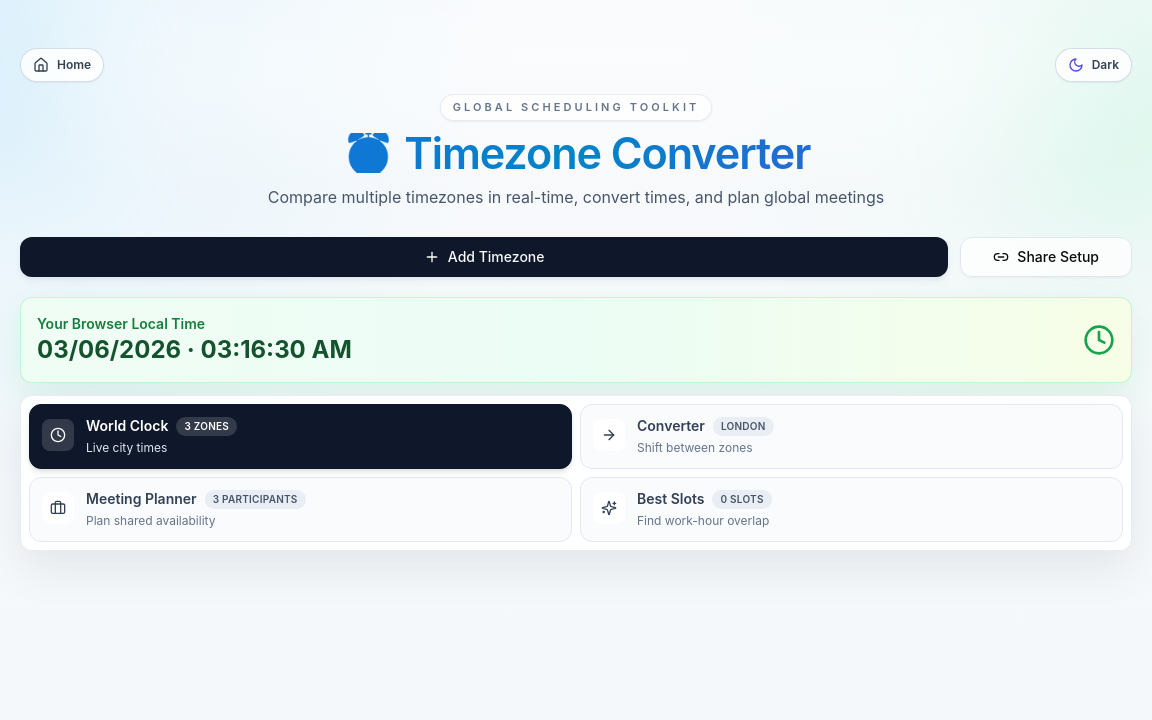
Test: TimezoneConverter Component - Hardcoded Data Version › filters timezones by search query
Click the button "Add Timezone": (484, 256) [20,236,948,276]
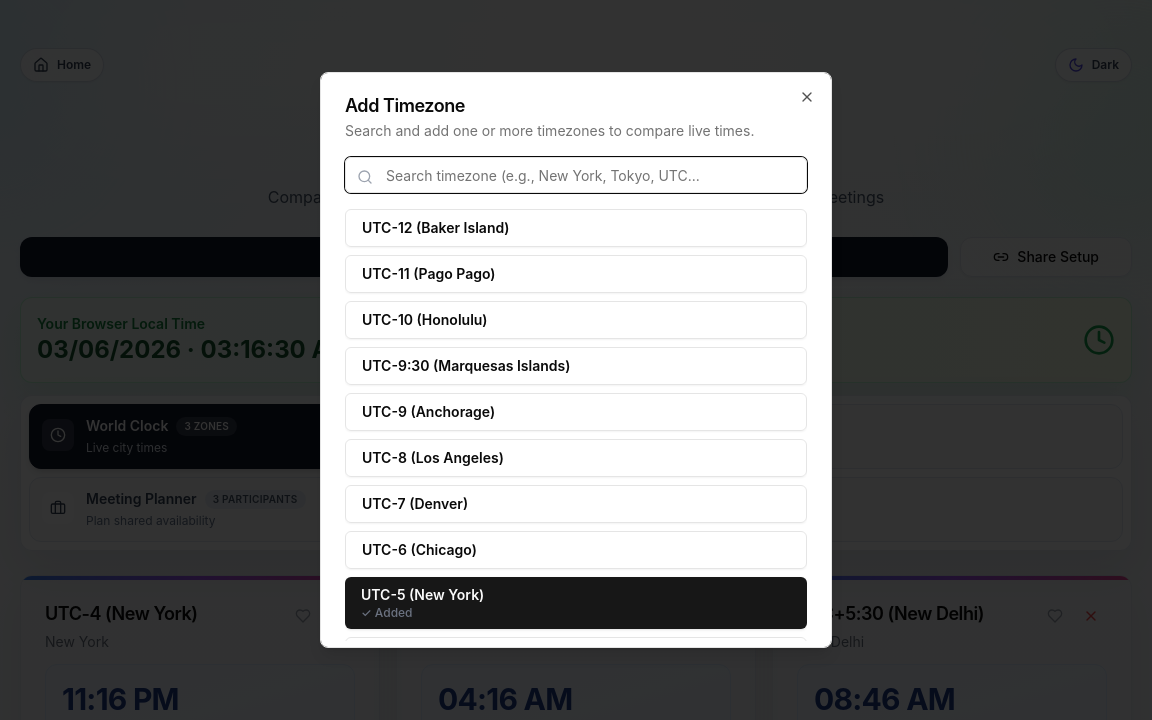
In the field with placeholder "Search timezone (e.g., New York, Tokyo, UTC...": (576, 175) [345,157,807,193], type "Tokyo"
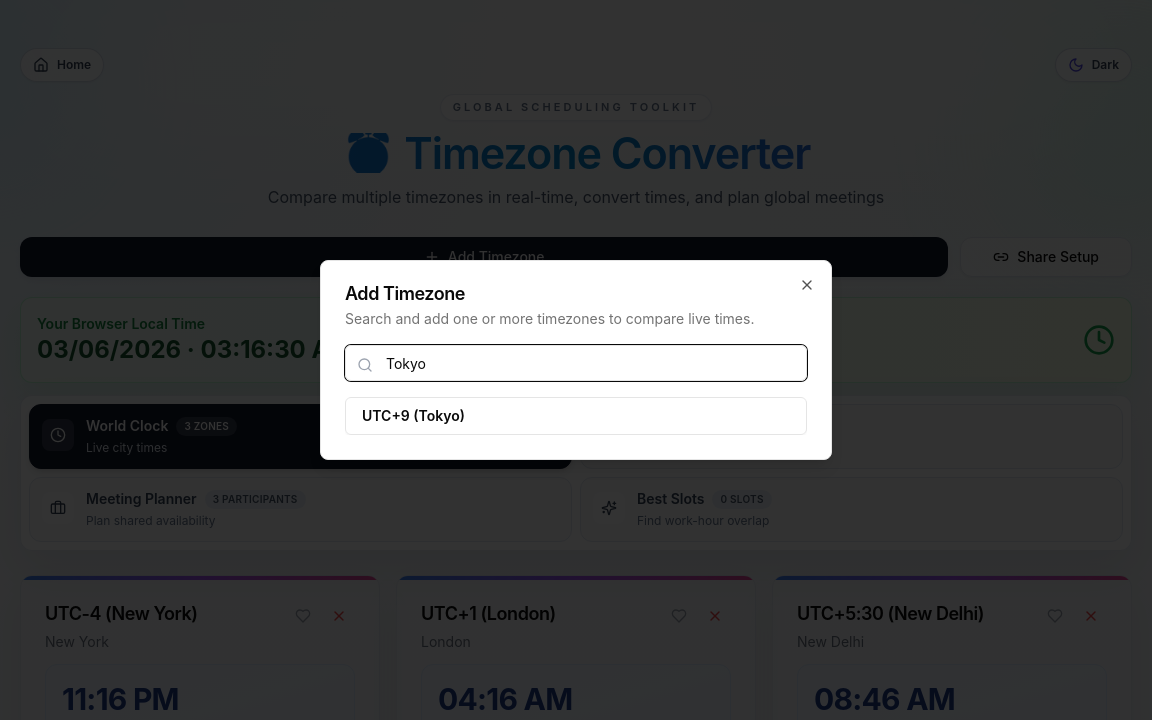
Now the text "UTC+9 (Tokyo)" is shown, box [362,406,465,426]
